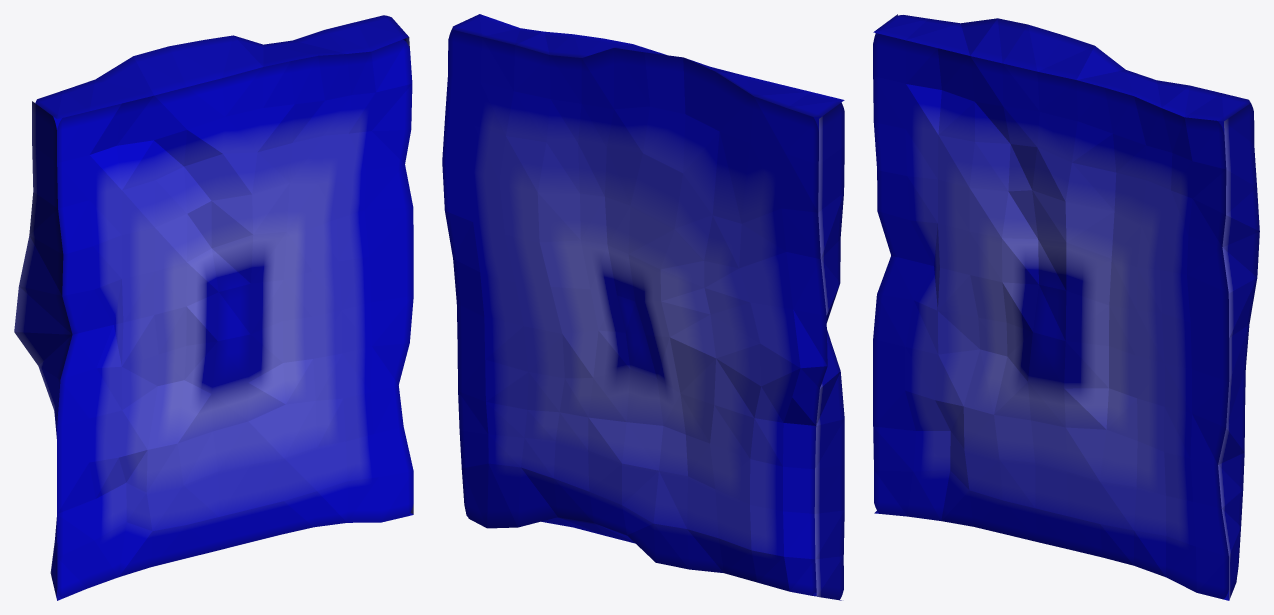
Rendered from blue_moongate_0777x10.obj.
The picture shows the model from 3 angles, left to right: view 1: azimuth 30°, elevation 25°; view 2: azimuth 150°, elevation 25°; view 3: azimuth 330°, elevation 25°; orthographic projection. The views are drawn at different scales.
Visible parts, largest first — view 1: blue_moongate_0777x10; view 2: blue_moongate_0777x10; view 3: blue_moongate_0777x10.
Part boxes in pixels (x1,y1,x2,y2): blue_moongate_0777x10: [14, 15, 413, 600]; blue_moongate_0777x10: [442, 14, 844, 600]; blue_moongate_0777x10: [873, 14, 1259, 600].
Bounding box in the file's own units: 4.34 × 5.6 × 0.6624.
